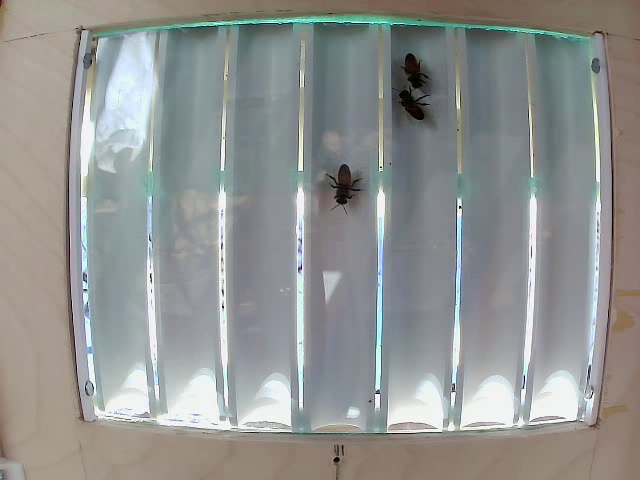bee: (333, 159, 369, 218), (395, 88, 435, 135), (397, 52, 428, 94)
